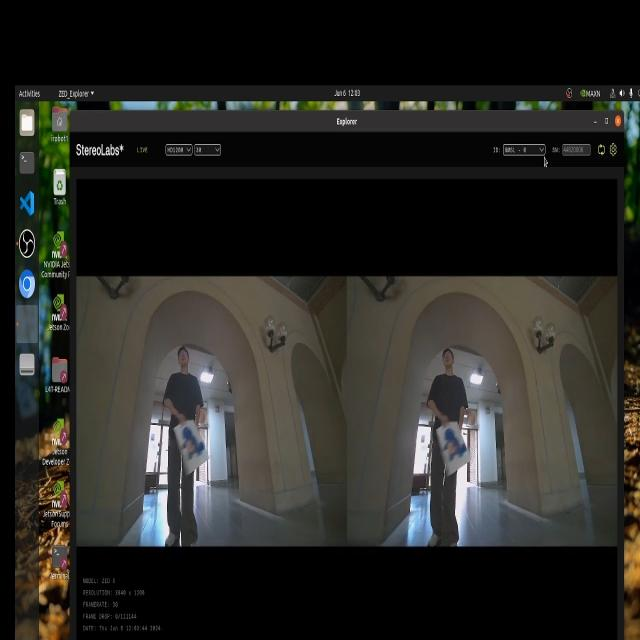blue: (430, 427, 462, 464), (180, 423, 204, 467)
